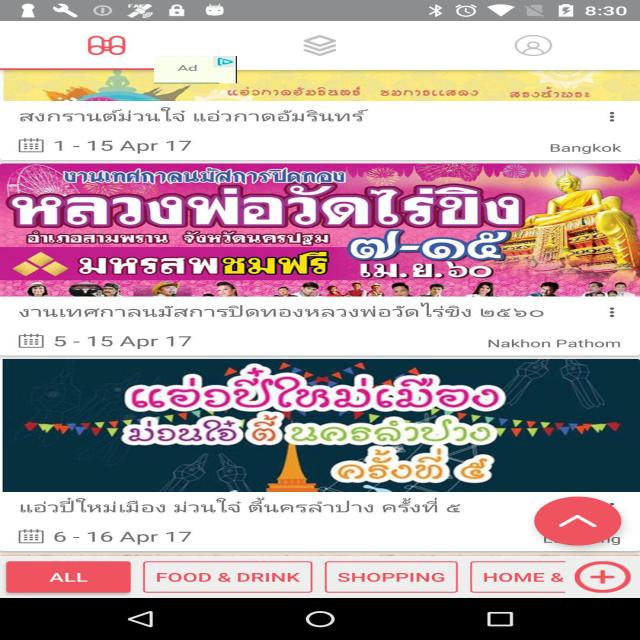sneaking: (154, 56, 237, 83)
